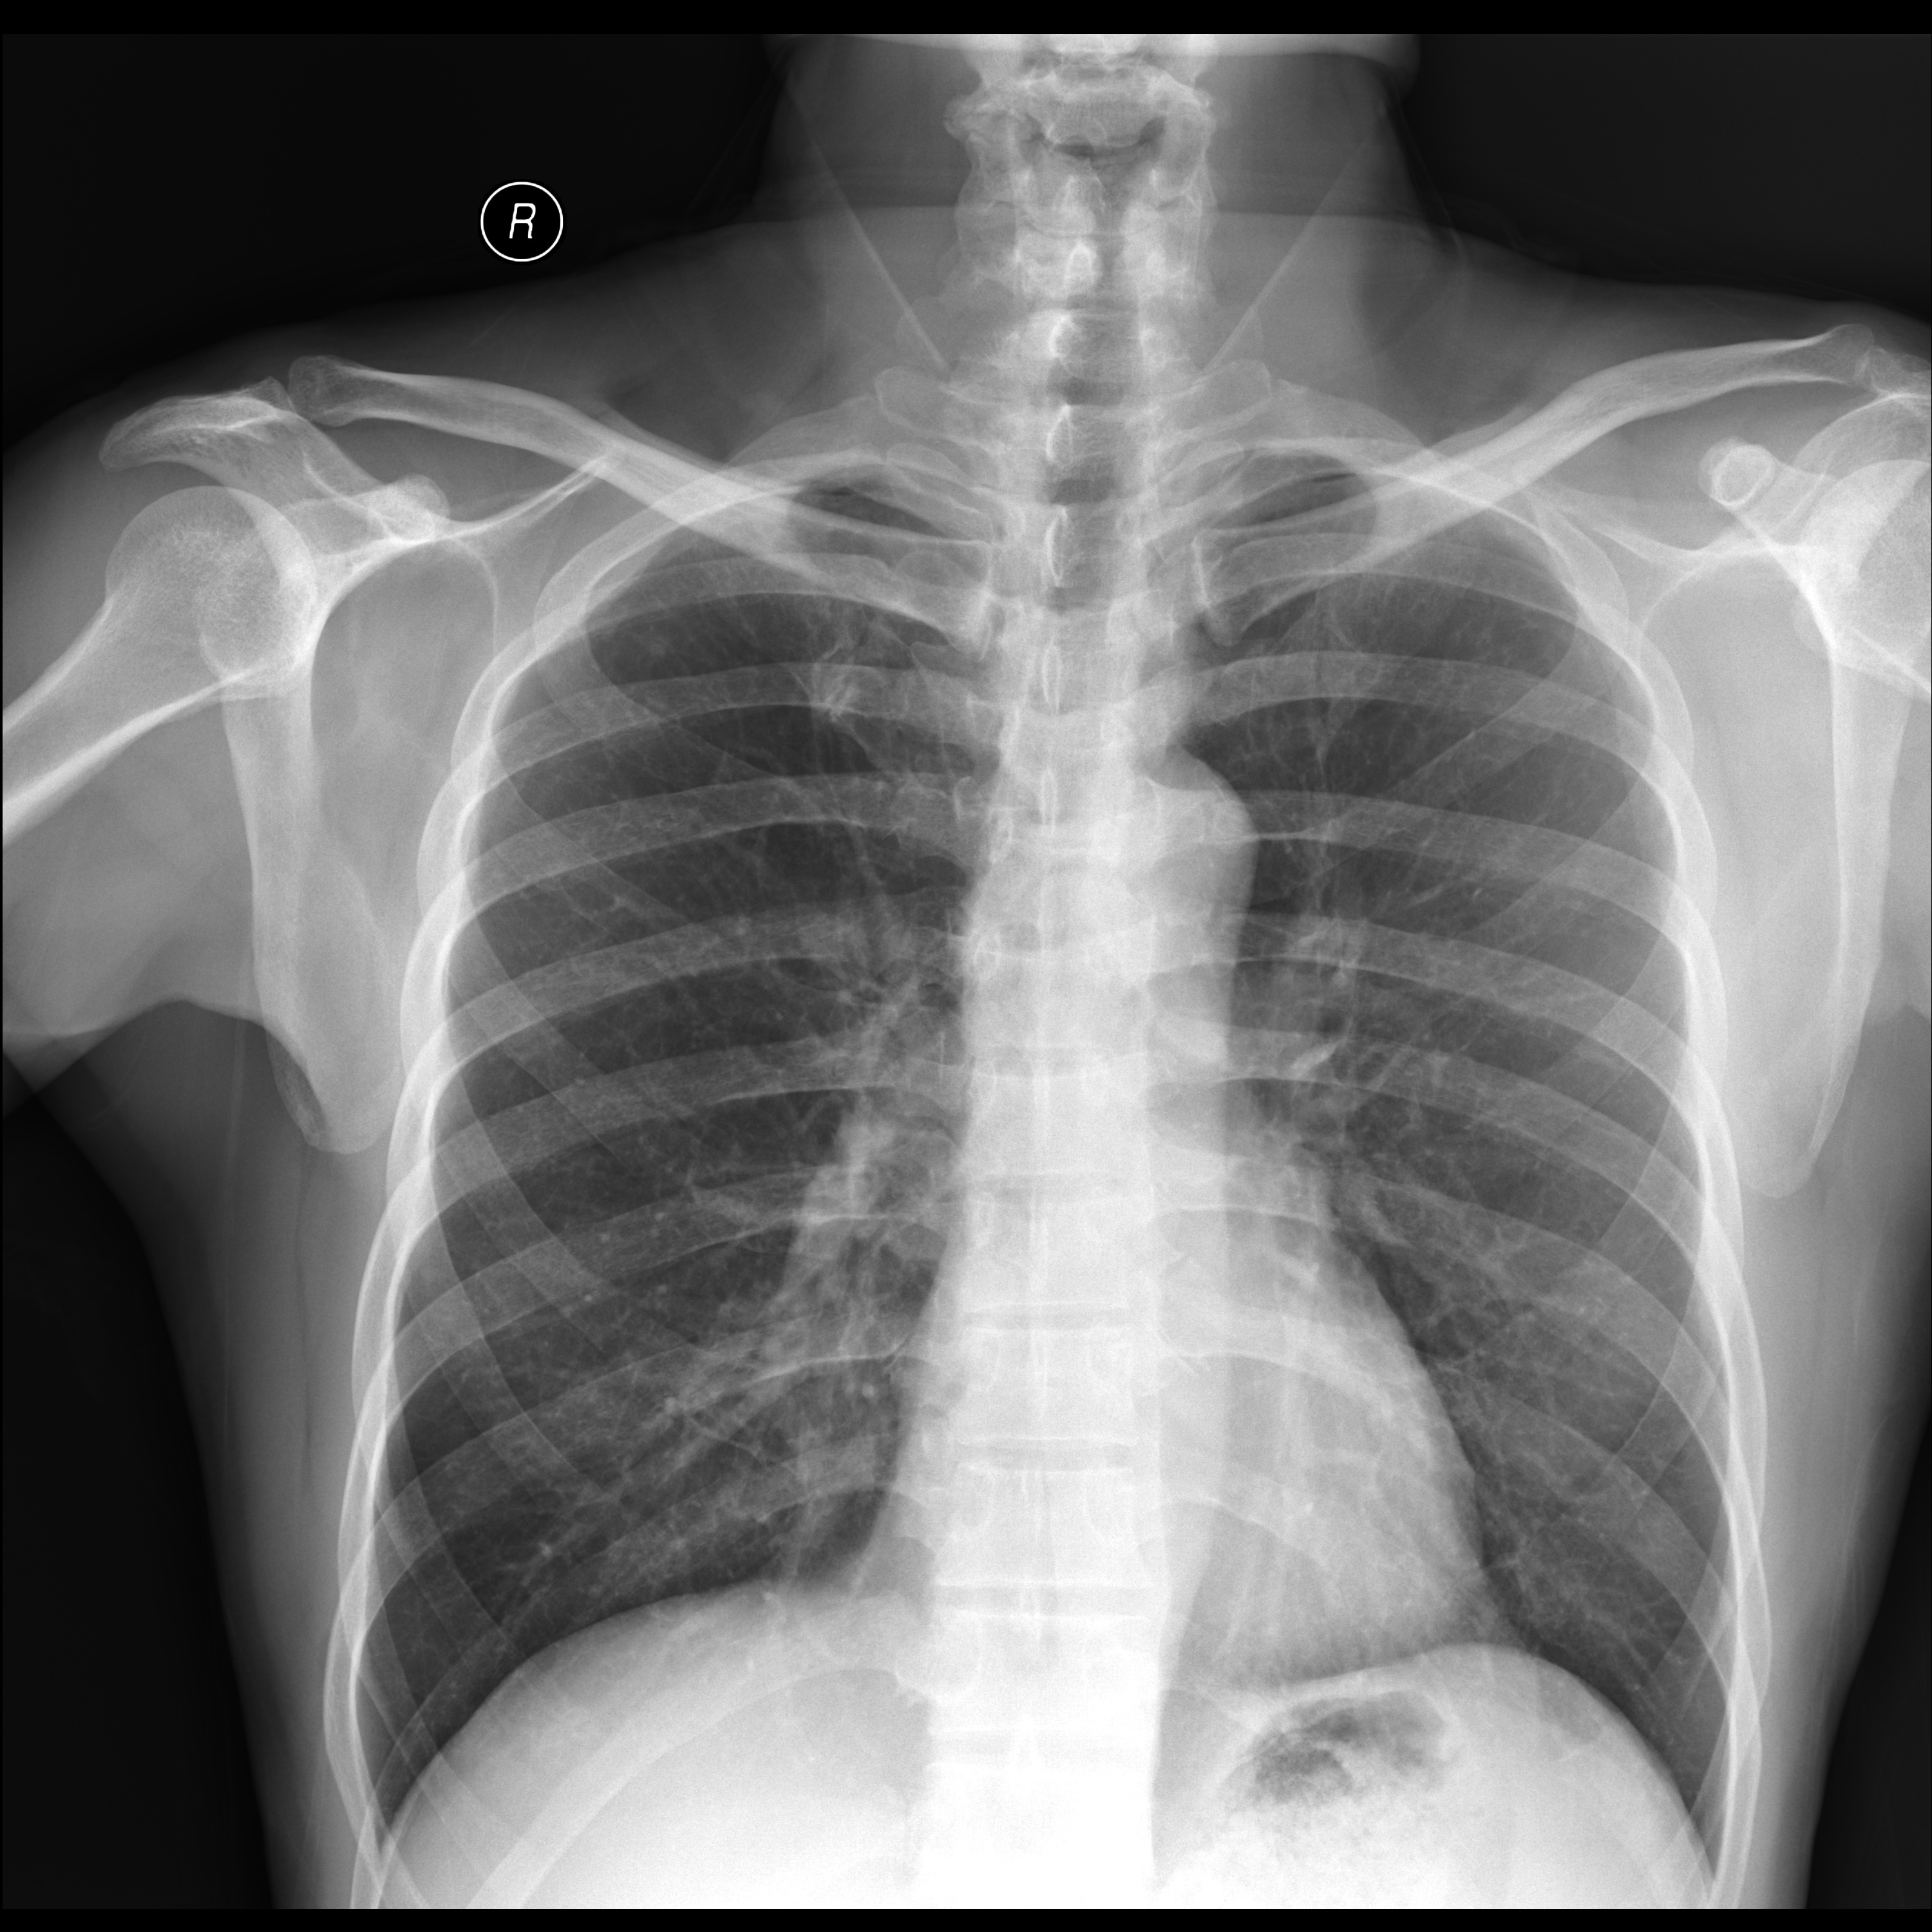nodule: (584, 593, 717, 695)
